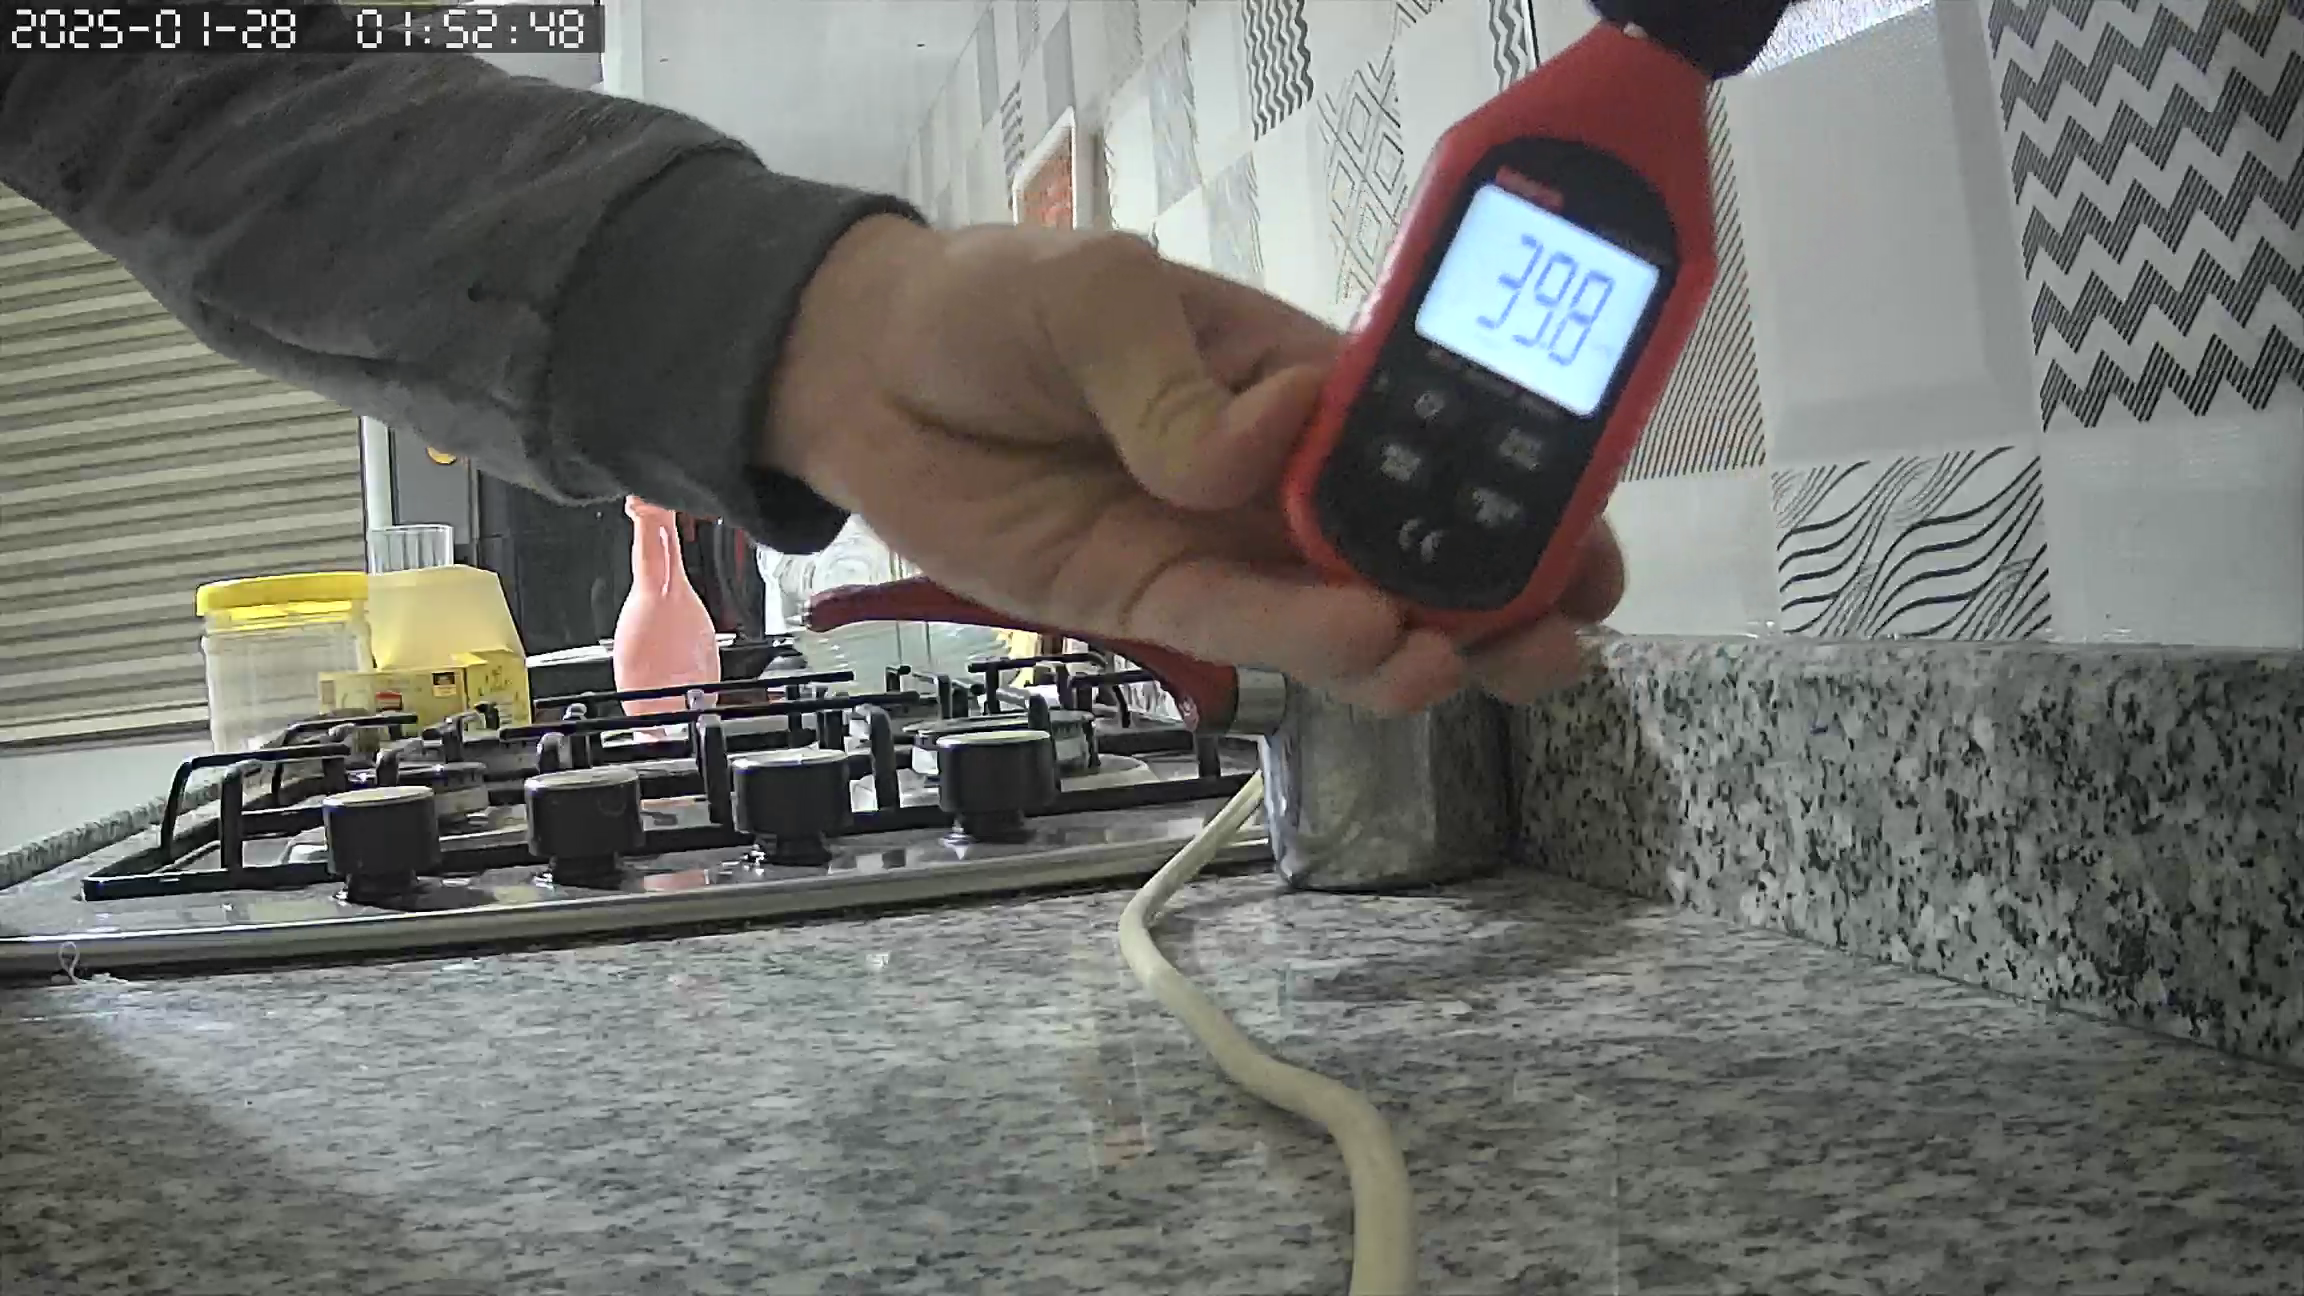screen: (1415, 184, 1662, 418)
